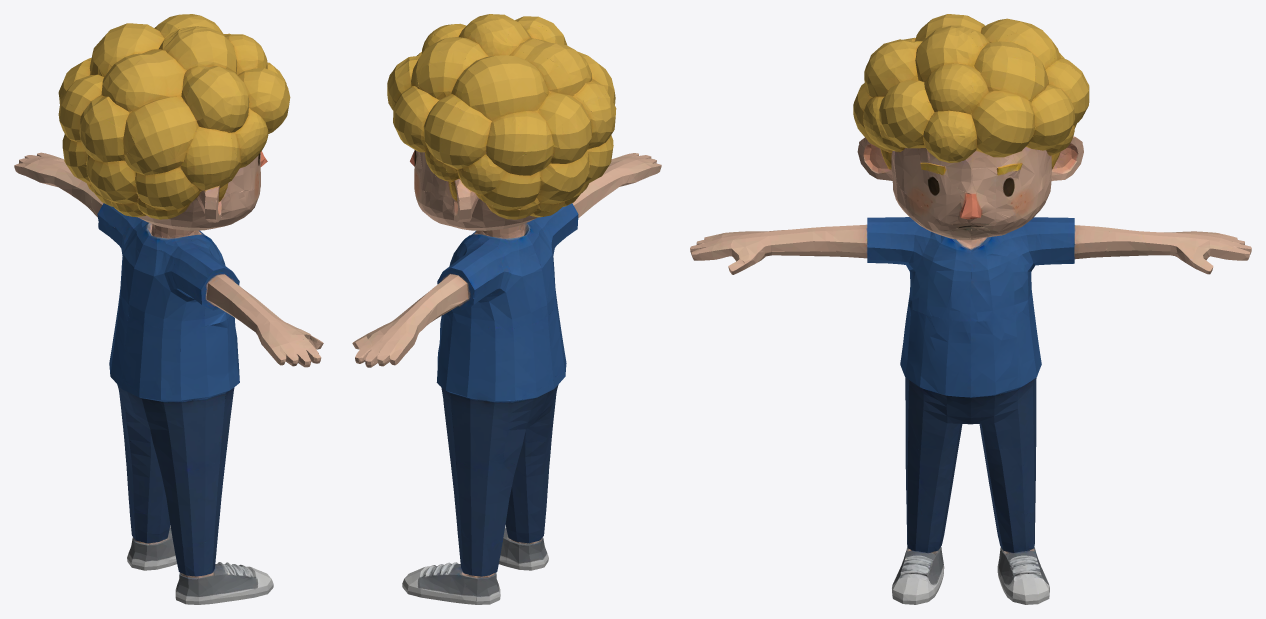
File: child.fbx
3 renders of one model, left to right at view 1: azimuth 30°, elevation 25°; view 2: azimuth 150°, elevation 25°; view 3: azimuth 270°, elevation 25°, orthographic.
Parts seen in each view (by area): view 1: child; view 2: child; view 3: child.
Boxes of the visible parts, x1=… form: child: x1=14, y1=14, x2=323, y2=604; child: x1=352, y1=14, x2=661, y2=604; child: x1=690, y1=14, x2=1251, y2=604.
Size of the model in its own units: 22.78 by 60 by 55.56.
Materials: 1 (1 with a texture image).
